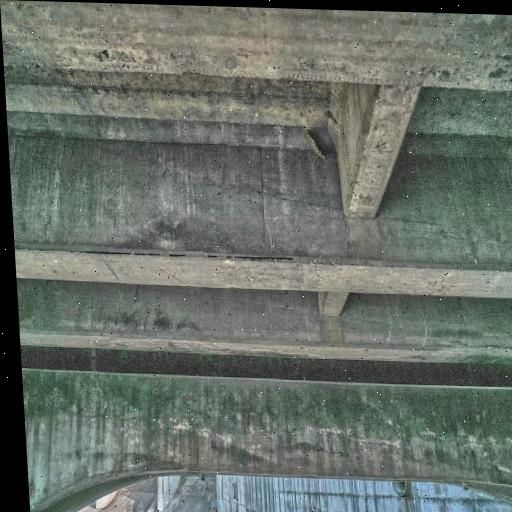exposed_rebar: (101, 257, 121, 282), (234, 255, 294, 262), (87, 251, 132, 256), (133, 253, 168, 258), (169, 254, 186, 258), (208, 255, 217, 258), (227, 255, 233, 258)
